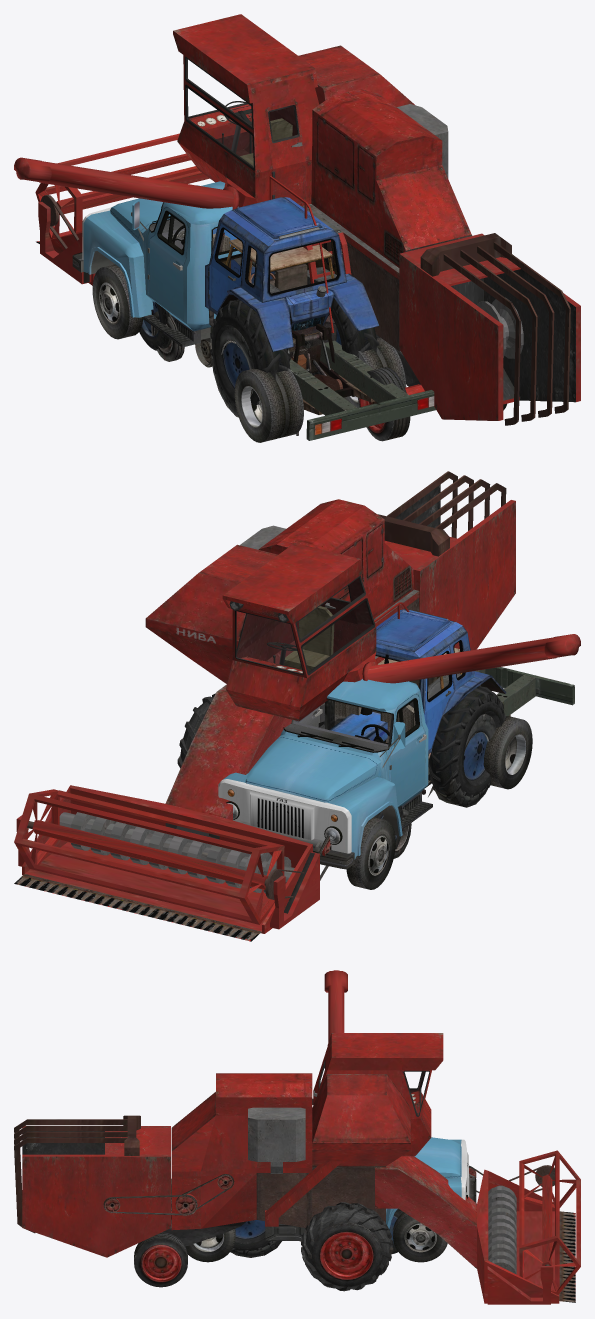
File: farmset.glb
3 views of the same model, one above another, from view 1: azimuth 30°, elevation 25°; view 2: azimuth 150°, elevation 25°; view 3: azimuth 270°, elevation 25° (orthographic). The views are drawn at different scales.
Visible parts, largest first — view 1: niva, gaz52, mtz80, gaz52Wheel0, mtz80Wheel2, tractorSmall, gaz52Wheel2, mtz80Wheel3, nivaWheel0, gaz52Wheel1, tractorSmallWheel1, mtz80Wheel0 (+1 smaller); view 2: niva, gaz52, mtz80, mtz80Wheel2, gaz52Wheel0, gaz52Wheel2, tractorSmallWheel1, nivaWheel3; view 3: niva, nivaWheel3, gaz52, nivaWheel1, gaz52Wheel3, gaz52Wheel1, mtz80Wheel3.
Part boxes in pixels (x1=…): niva: x1=14, y1=14, x2=580, y2=425; gaz52: x1=72, y1=181, x2=435, y2=440; mtz80: x1=205, y1=197, x2=379, y2=397; gaz52Wheel0: x1=234, y1=368, x2=303, y2=442; mtz80Wheel2: x1=210, y1=299, x2=290, y2=410; tractorSmall: x1=219, y1=232, x2=336, y2=435; gaz52Wheel2: x1=92, y1=264, x2=143, y2=339; mtz80Wheel3: x1=311, y1=299, x2=379, y2=375; nivaWheel0: x1=358, y1=367, x2=410, y2=441; gaz52Wheel1: x1=344, y1=337, x2=406, y2=407; tractorSmallWheel1: x1=211, y1=327, x2=254, y2=417; mtz80Wheel0: x1=139, y1=301, x2=171, y2=350; niva: x1=14, y1=471, x2=580, y2=941; gaz52: x1=209, y1=667, x2=574, y2=869; mtz80: x1=325, y1=609, x2=506, y2=762; mtz80Wheel2: x1=428, y1=686, x2=506, y2=799; gaz52Wheel0: x1=483, y1=715, x2=532, y2=789; gaz52Wheel2: x1=346, y1=817, x2=395, y2=889; tractorSmallWheel1: x1=433, y1=713, x2=496, y2=807; nivaWheel3: x1=177, y1=693, x2=215, y2=768; niva: x1=14, y1=970, x2=580, y2=1304; nivaWheel3: x1=301, y1=1202, x2=393, y2=1291; gaz52: x1=171, y1=1137, x2=476, y2=1240; nivaWheel1: x1=134, y1=1232, x2=187, y2=1287; gaz52Wheel3: x1=393, y1=1212, x2=447, y2=1262; gaz52Wheel1: x1=185, y1=1229, x2=235, y2=1262; mtz80Wheel3: x1=216, y1=1220, x2=272, y2=1254.
Bounding box in the file's own units: 7.25 × 4.43 × 10.93.
6 materials, 6 textured.
